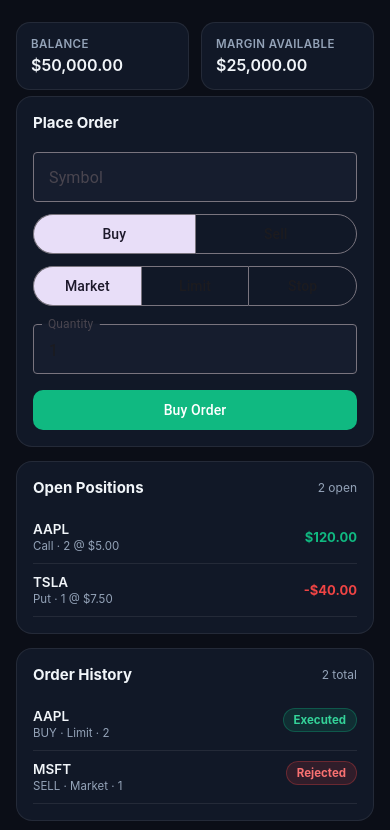
Test case: TradingScreen order form › shows the price field for limit and stop orders with the right label
Check: the text "Place Order" is shown, box [33, 113, 119, 132]
Click the button "Limit" at (195, 286), box [142, 267, 248, 305]
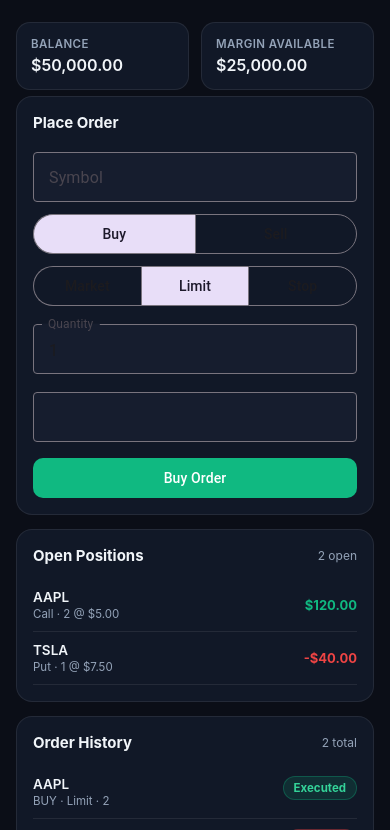
Check: the number of fields with test id "text-input-outlined" is 3, box [33, 154, 357, 202]; [33, 326, 357, 374]; [33, 394, 357, 442]
Click the button "Stop" at (303, 286), box [249, 267, 356, 305]
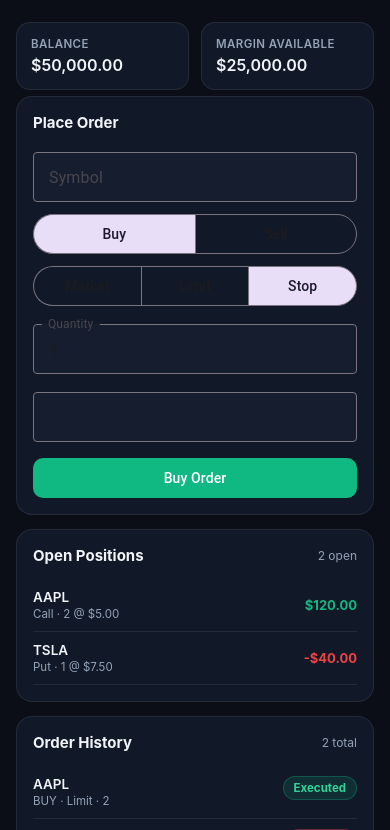
Click the button "Market" at (87, 286), box [34, 267, 141, 305]
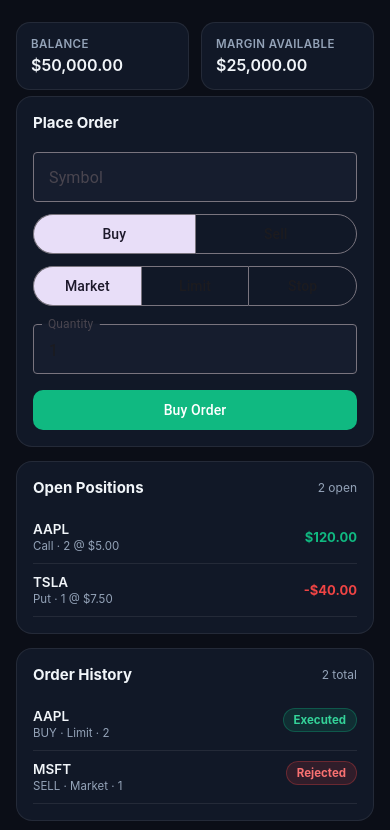
Check: the number of fields with test id "text-input-outlined" is 2, box [33, 154, 357, 202]; [33, 326, 357, 374]
